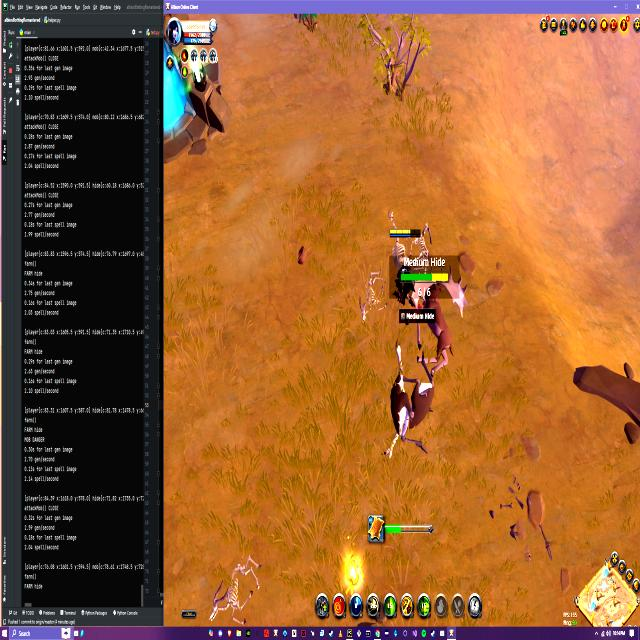mob: (382, 344, 436, 470), (412, 272, 464, 372)
red: (388, 229, 423, 302)
